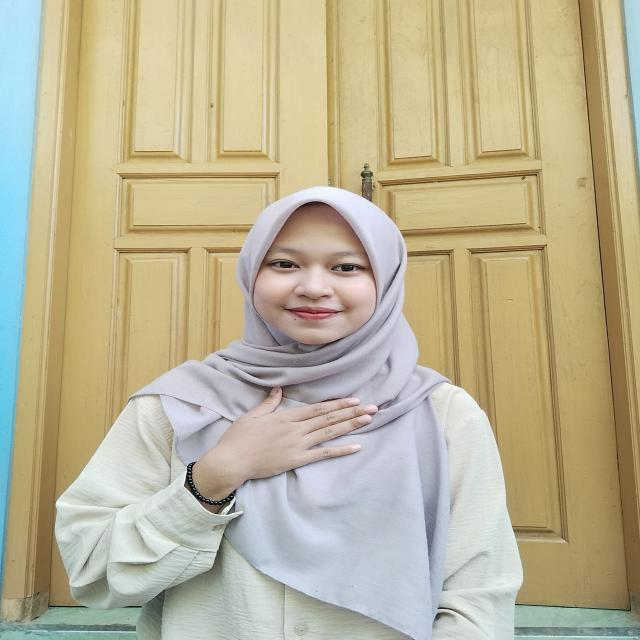tolong: (138, 379, 380, 523)
